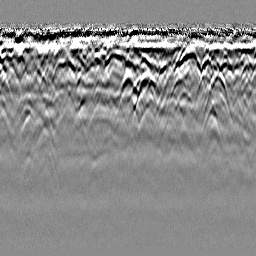cavity: (116, 65, 139, 97)
